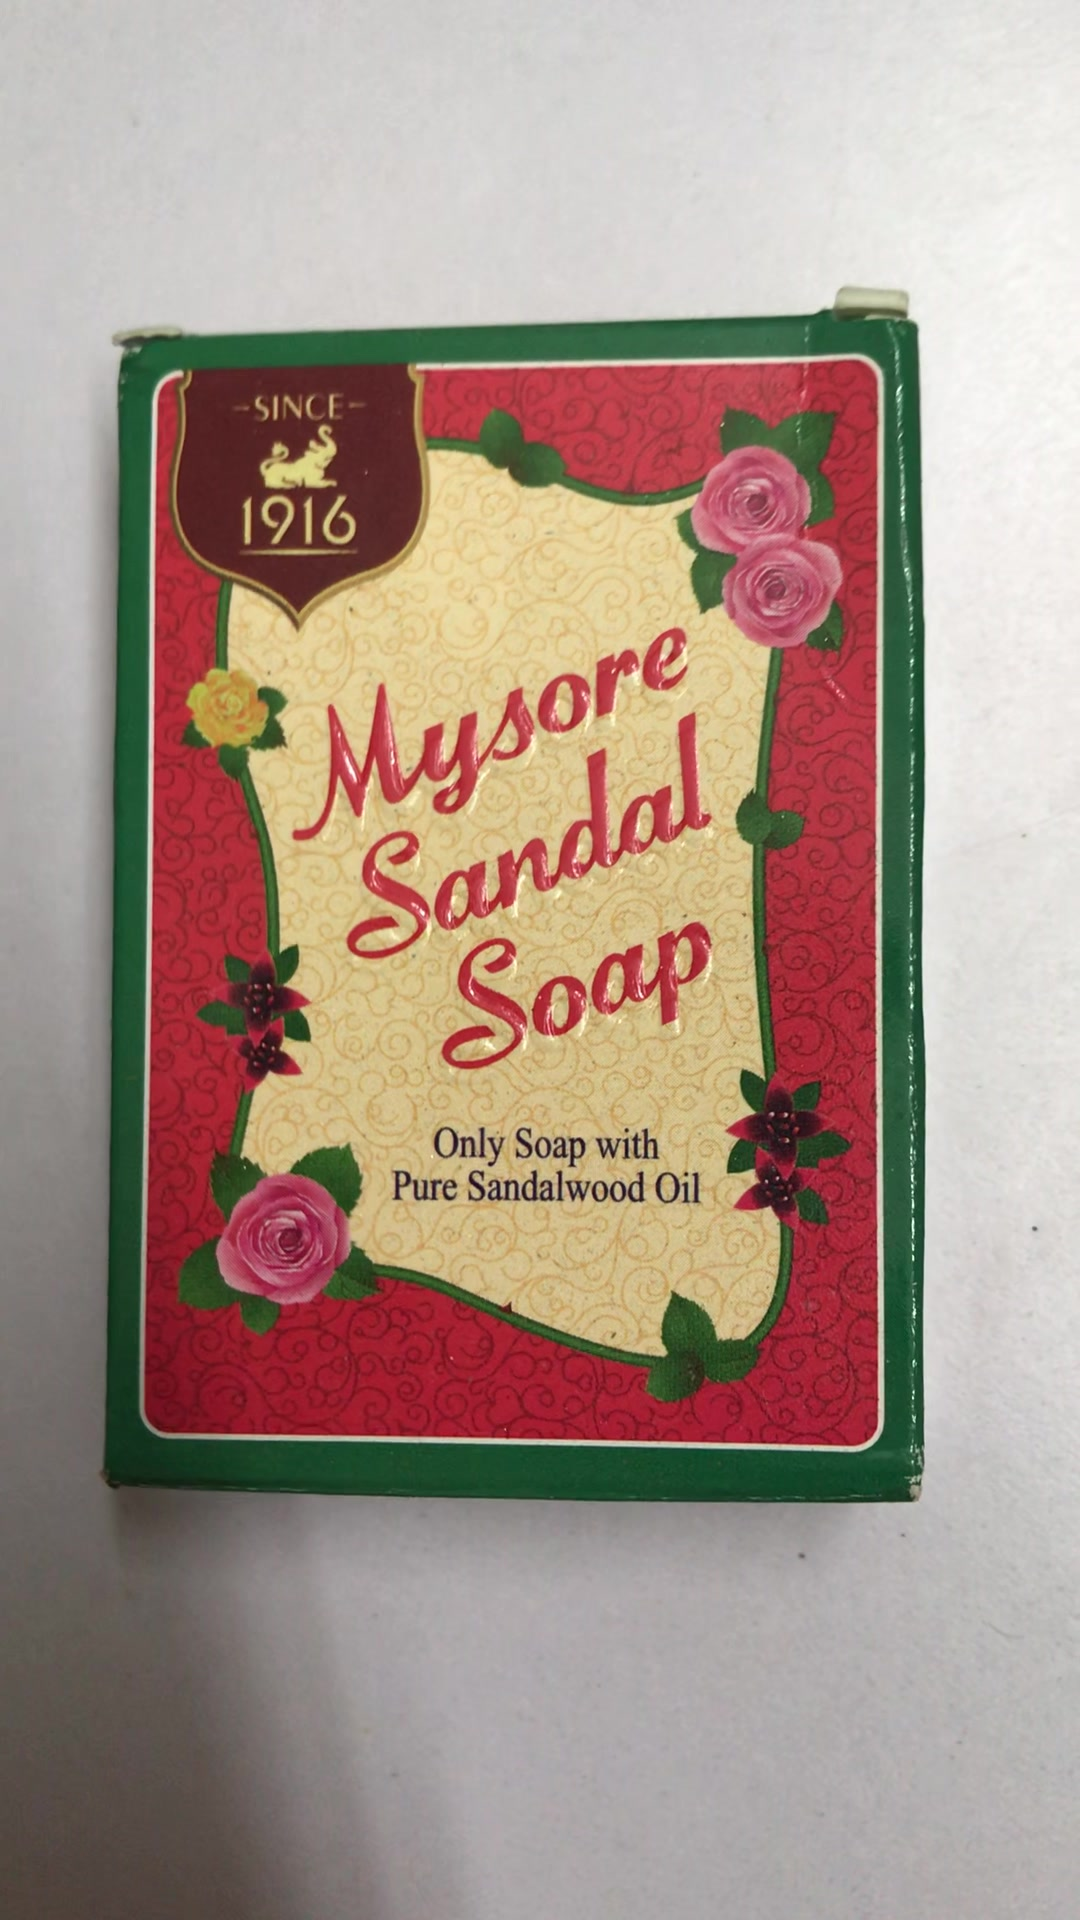mysore sandal soap: (107, 305, 940, 1502)
